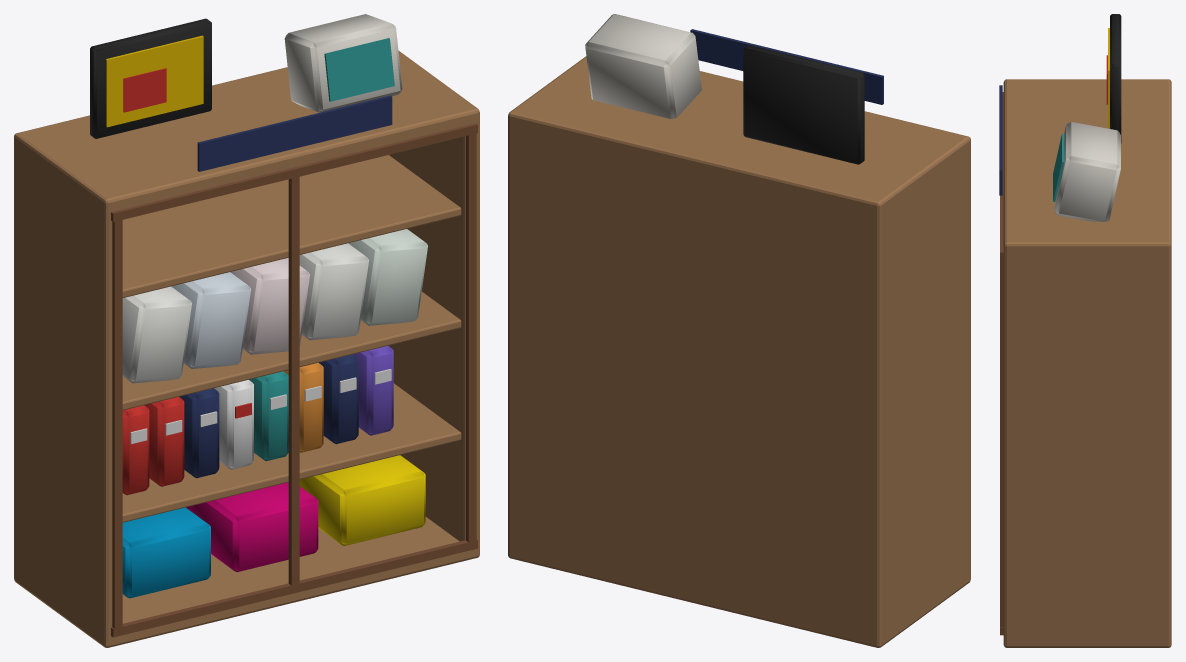
Rendered from m_cicabinet.glb.
The picture shows the model from 3 angles, left to right: view 1: azimuth 30°, elevation 25°; view 2: azimuth 150°, elevation 25°; view 3: azimuth 270°, elevation 25°; orthographic projection. The views are drawn at different scales.
Visible parts, largest first — view 1: m_cicabinet; view 2: m_cicabinet; view 3: m_cicabinet.
Part boxes in pixels (box(x1,y1,x2,y2)): m_cicabinet: box(14, 14, 479, 647); m_cicabinet: box(508, 14, 970, 647); m_cicabinet: box(999, 14, 1171, 647).
Bounding box in the file's own units: 0.7 × 0.97 × 0.308.
